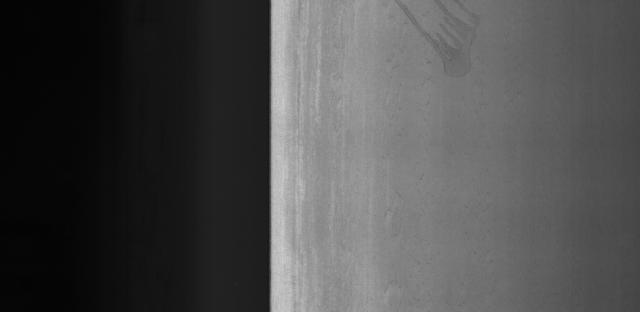water_spot: (383, 0, 501, 81)
